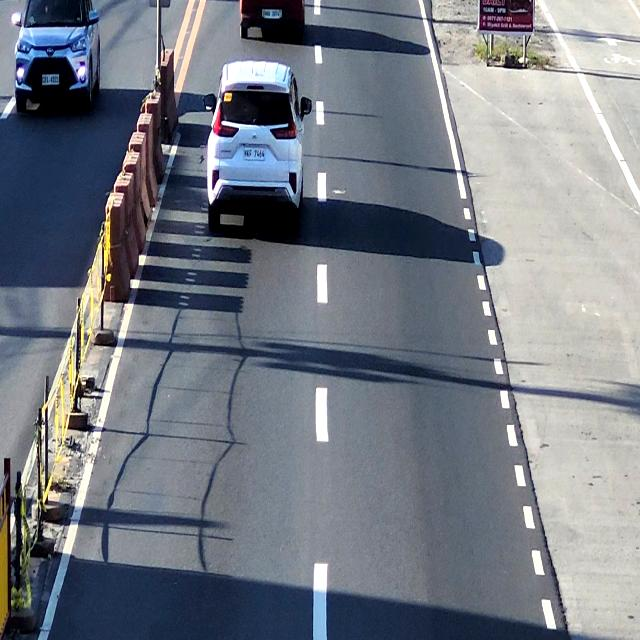Car: (207, 62, 308, 234), (236, 0, 307, 41)
License-Plate: (242, 146, 267, 164), (41, 74, 61, 86), (261, 8, 280, 18)
